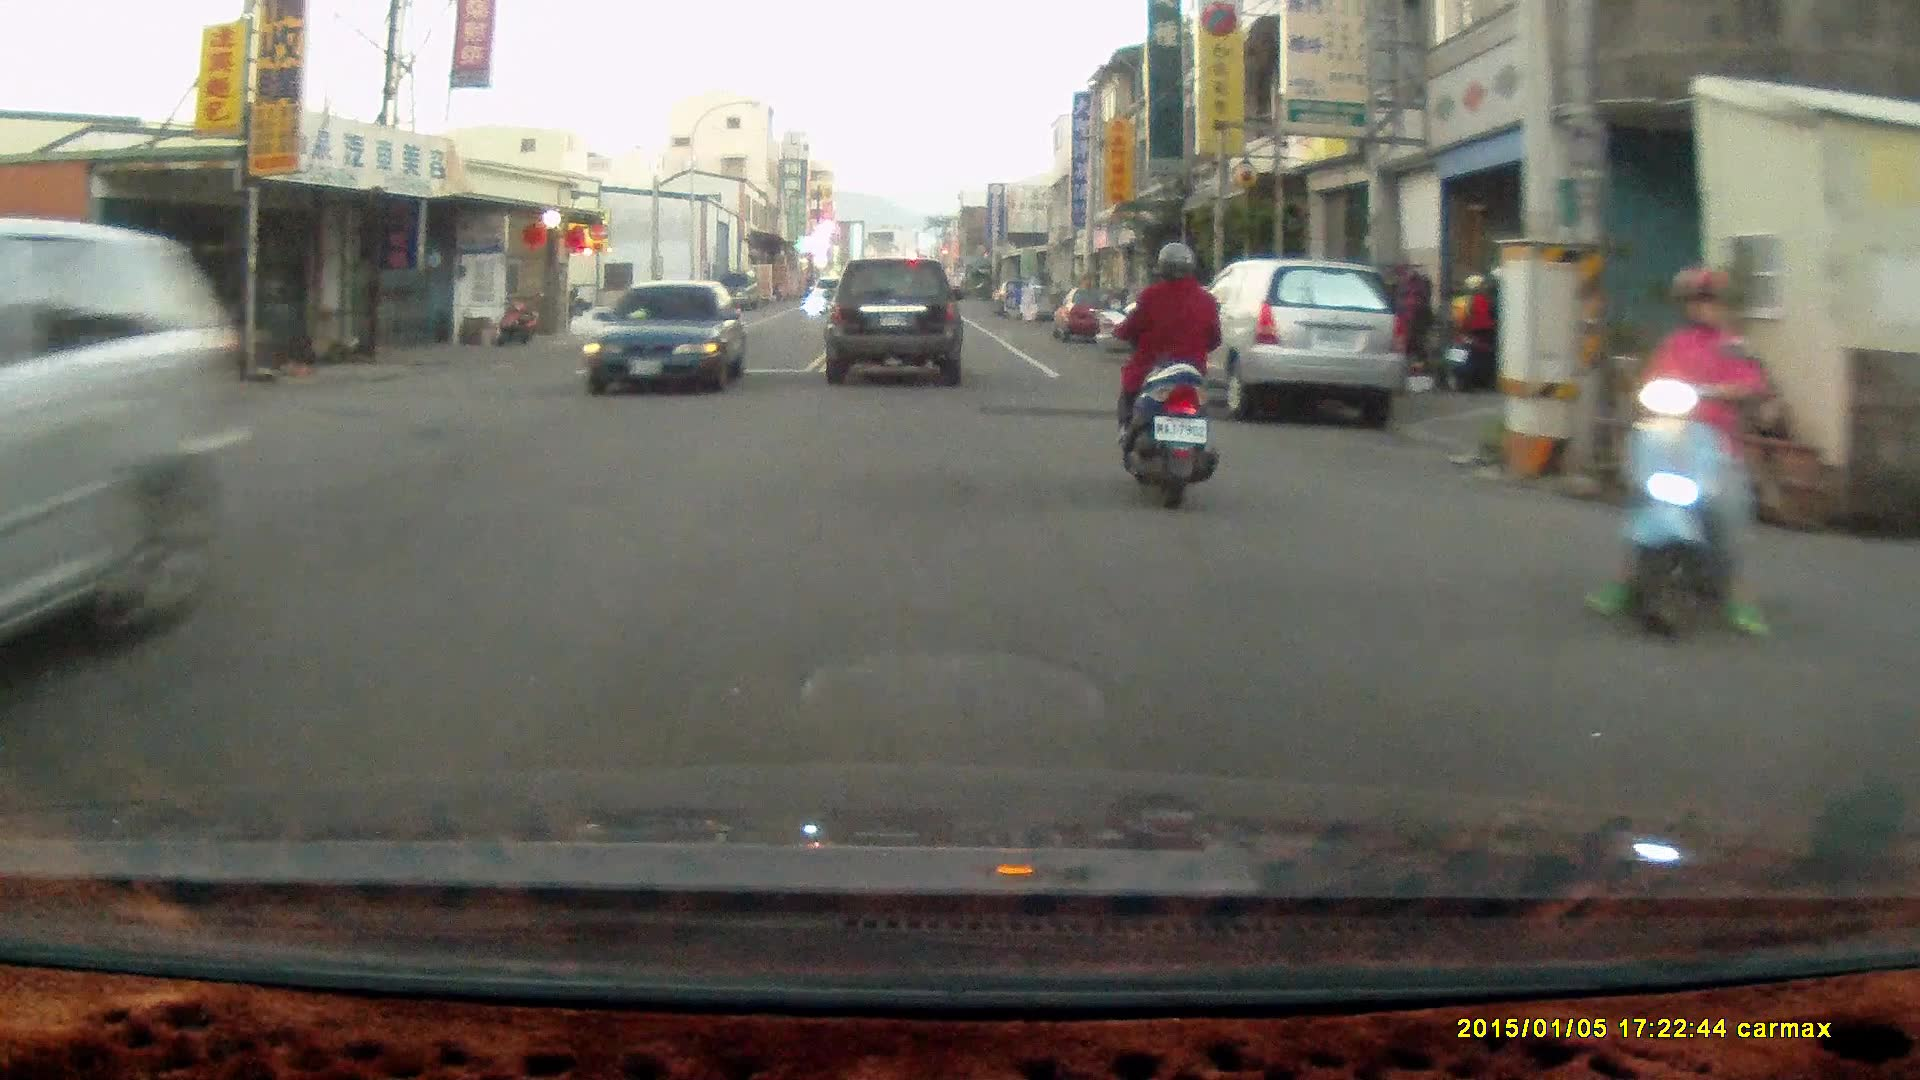rider: (1590, 268, 1781, 648), (1111, 238, 1220, 510), (1449, 265, 1505, 391)
vehicle: (1, 215, 257, 712), (1171, 260, 1405, 426), (588, 279, 749, 400), (825, 258, 966, 391), (1051, 287, 1129, 343)
